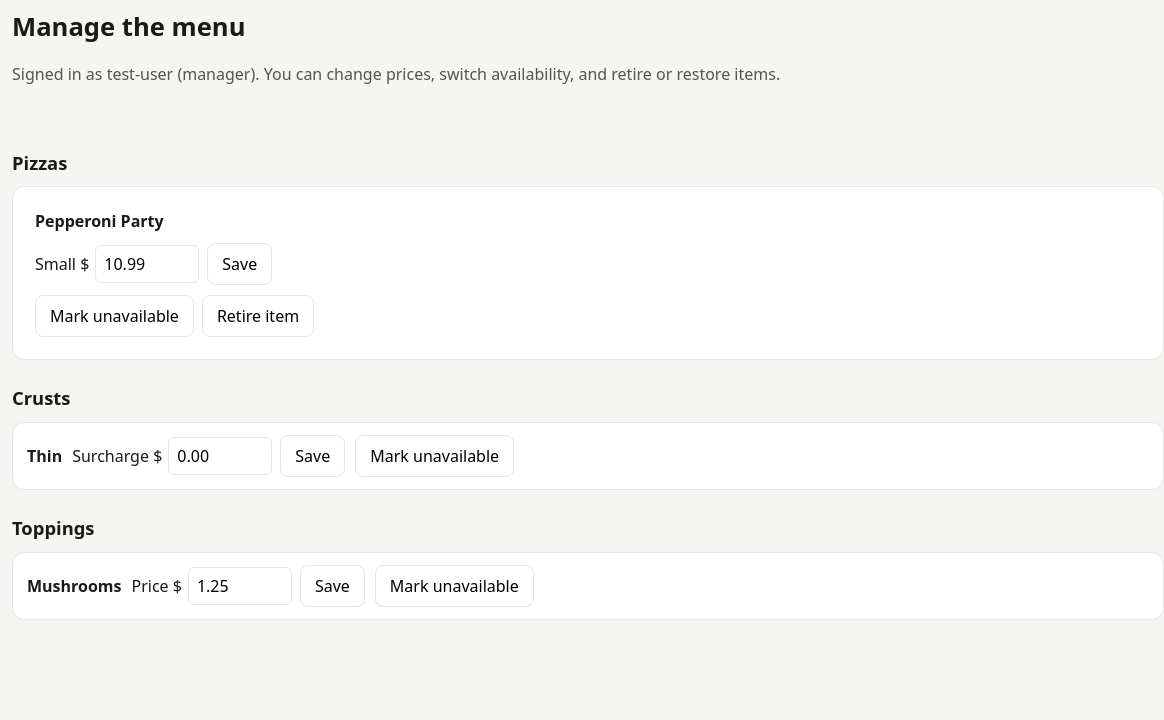
Test: ManageMenuPage › refuses a price with more than two decimal places without sending anything
Replace the text in the field named "Pepperoni Party, Small price in dollars" with "12.999". click: (147,264)
box: [95,245,199,283]
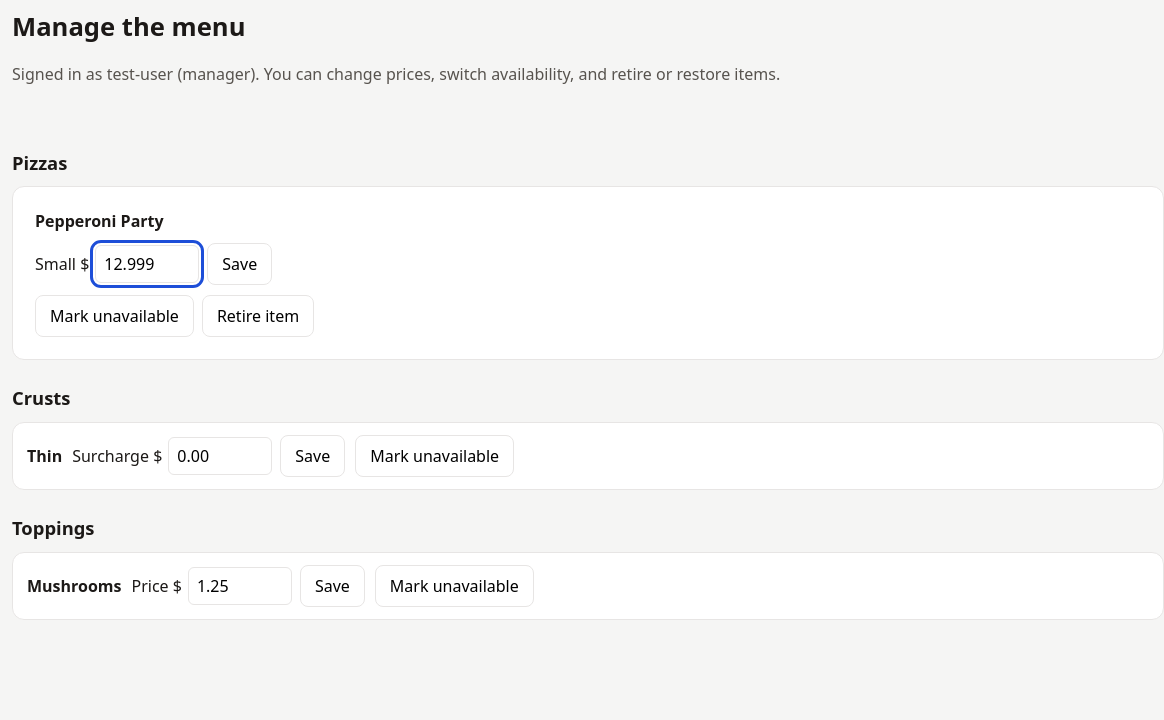
Click the button "Save" next to "Small". click: (240,264)
box: [207,243,272,285]
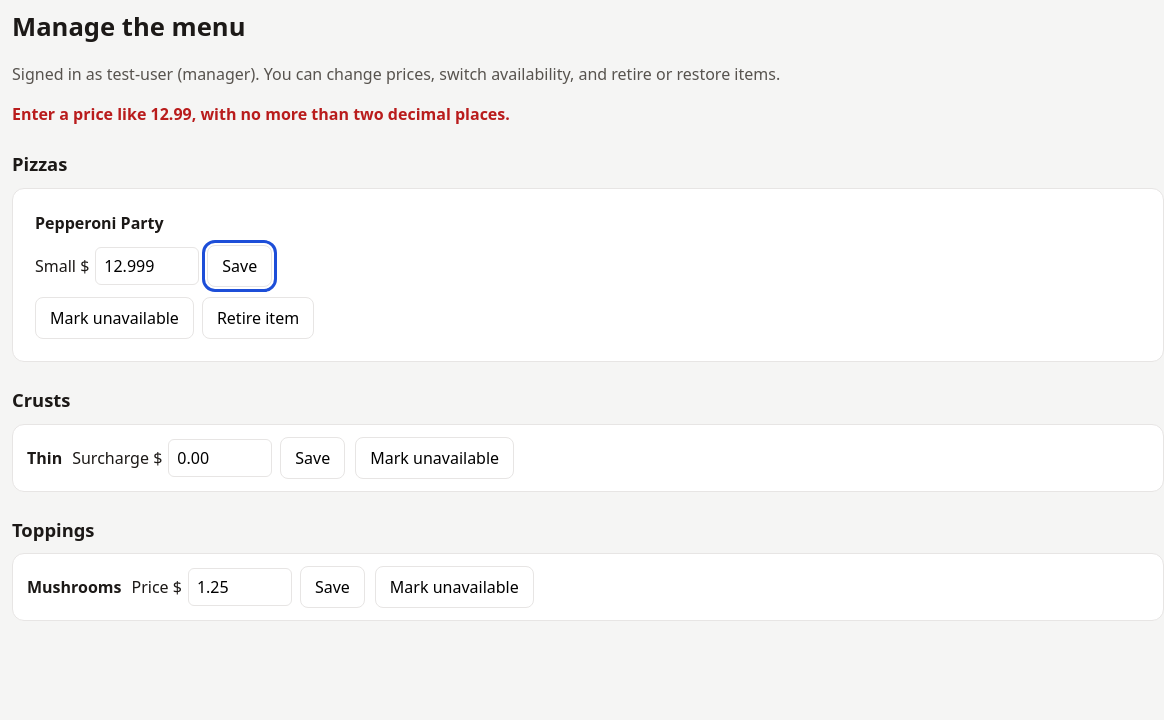
Result: the message shows "two decimal places" at [12,103,510,125]
